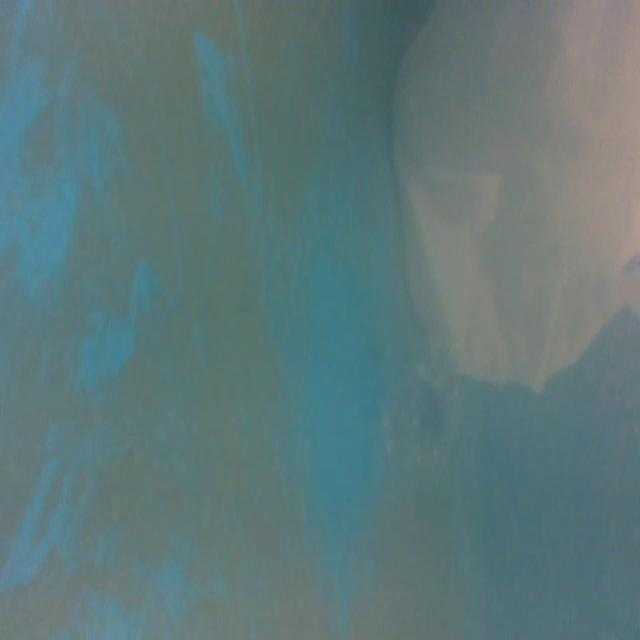plastic bags: (391, 8, 640, 389)
